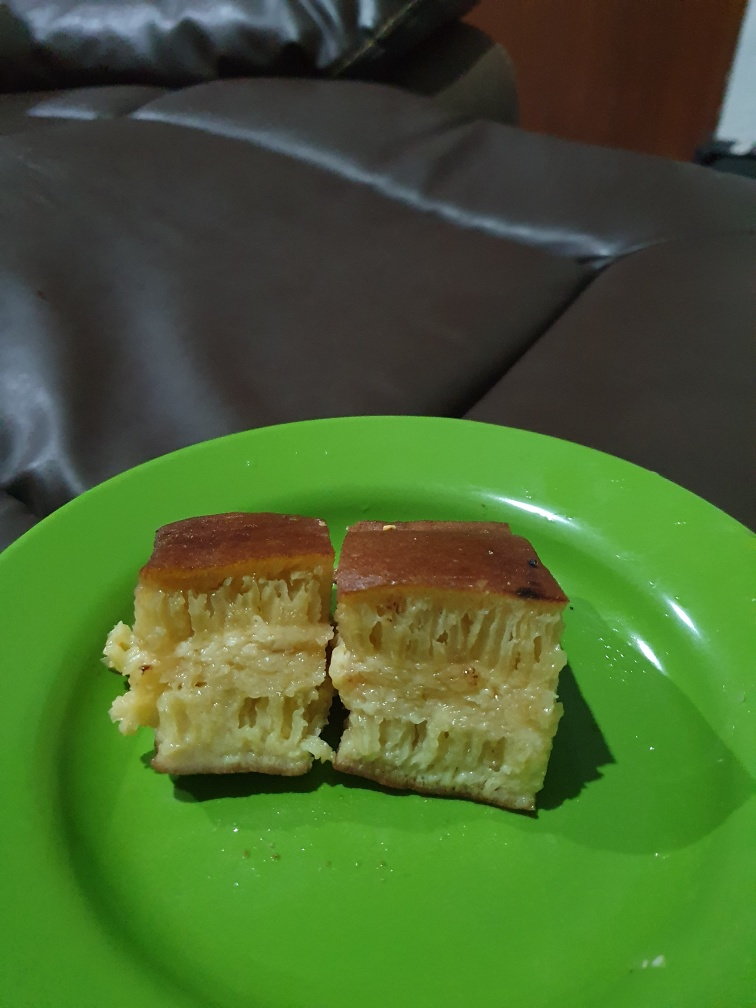martabak manis: (340, 522, 574, 827), (135, 493, 335, 780)
